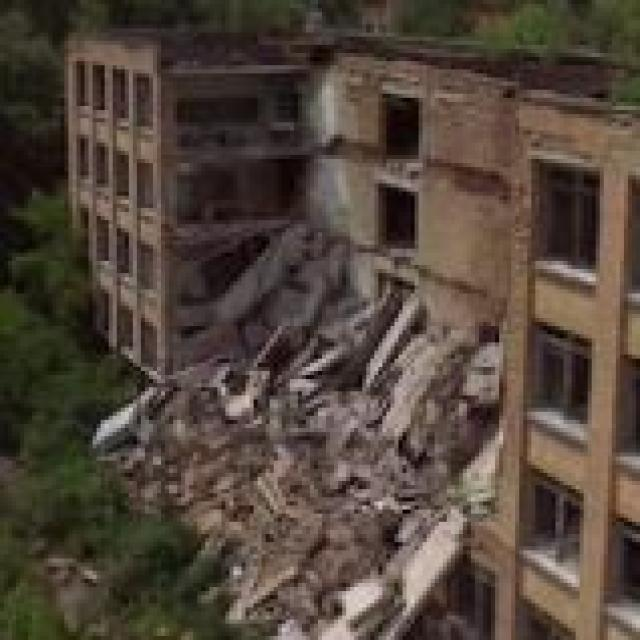collapsed_building: (97, 57, 527, 612)
